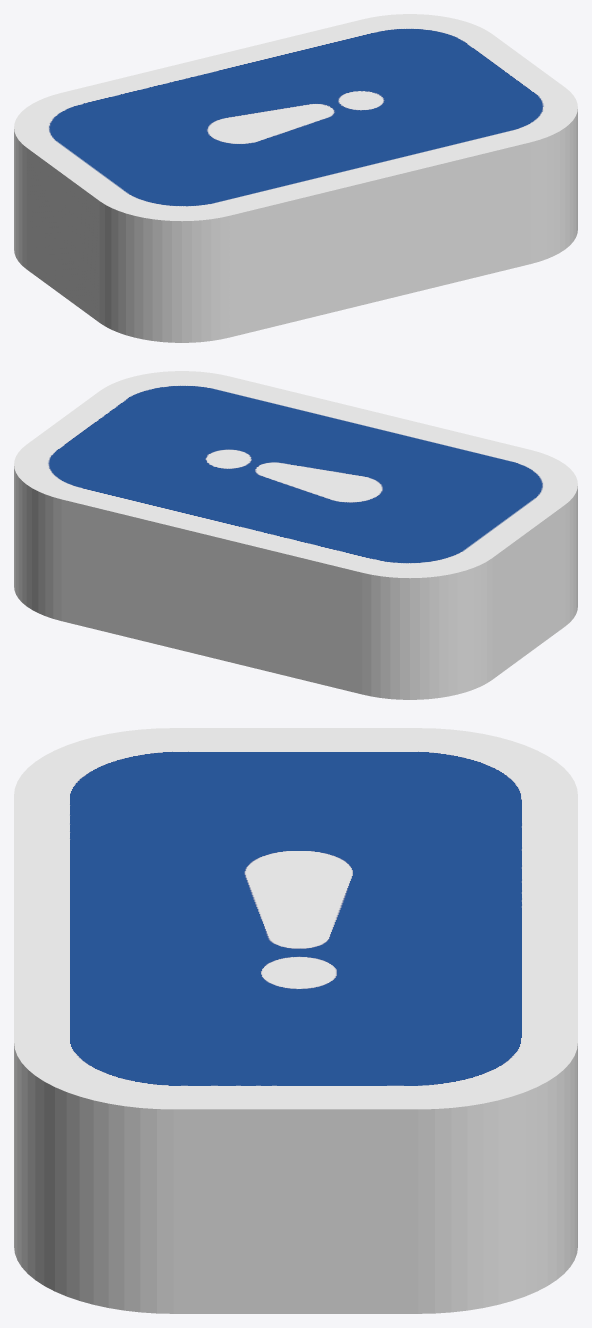
File: event_deck.fbx
3 renders of one model, top to bottom at view 1: azimuth 30°, elevation 25°; view 2: azimuth 150°, elevation 25°; view 3: azimuth 270°, elevation 25°, orthographic. The views are drawn at different scales.
Parts seen in each view (by area): view 1: Cube; view 2: Cube; view 3: Cube.
Boxes of the visible parts, bbox=[...] form: Cube: bbox=[14, 14, 577, 342]; Cube: bbox=[14, 371, 577, 699]; Cube: bbox=[14, 728, 577, 1313].
Size of the model in its own units: 8 by 2 by 5.
Materials: 1 (1 with a texture image).
